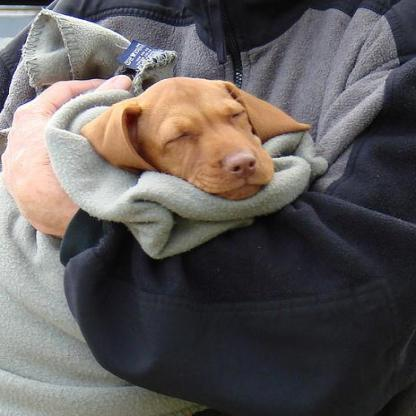vizsla: (76, 75, 309, 200)
